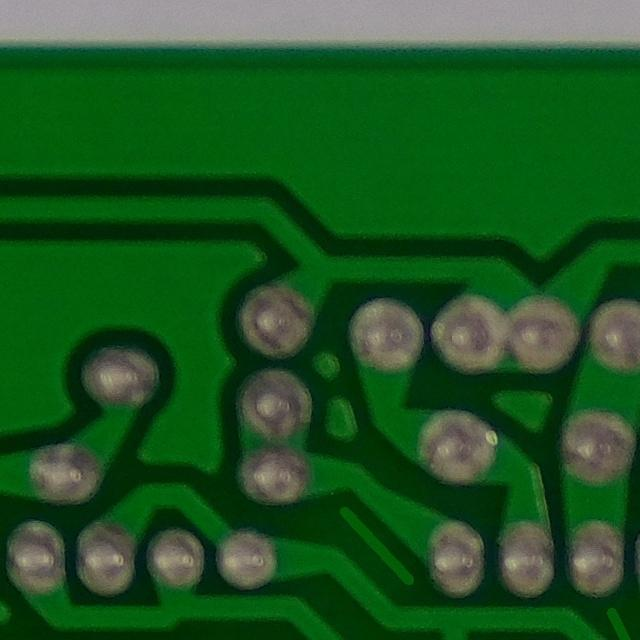spurious_copper: (319, 484, 422, 598), (585, 581, 640, 640)
